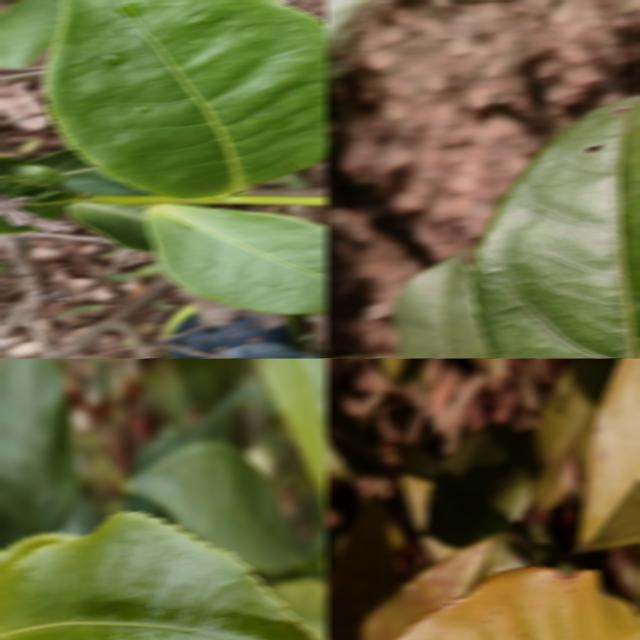Leaf: (44, 0, 328, 197), (471, 96, 640, 358), (0, 512, 320, 640), (129, 440, 299, 574), (145, 203, 328, 314), (0, 358, 81, 548), (424, 423, 540, 545), (531, 358, 619, 509), (577, 358, 640, 551), (324, 495, 402, 640), (258, 358, 328, 514), (392, 252, 491, 358), (139, 358, 252, 421), (0, 155, 79, 219), (0, 0, 63, 67), (0, 532, 76, 583)
